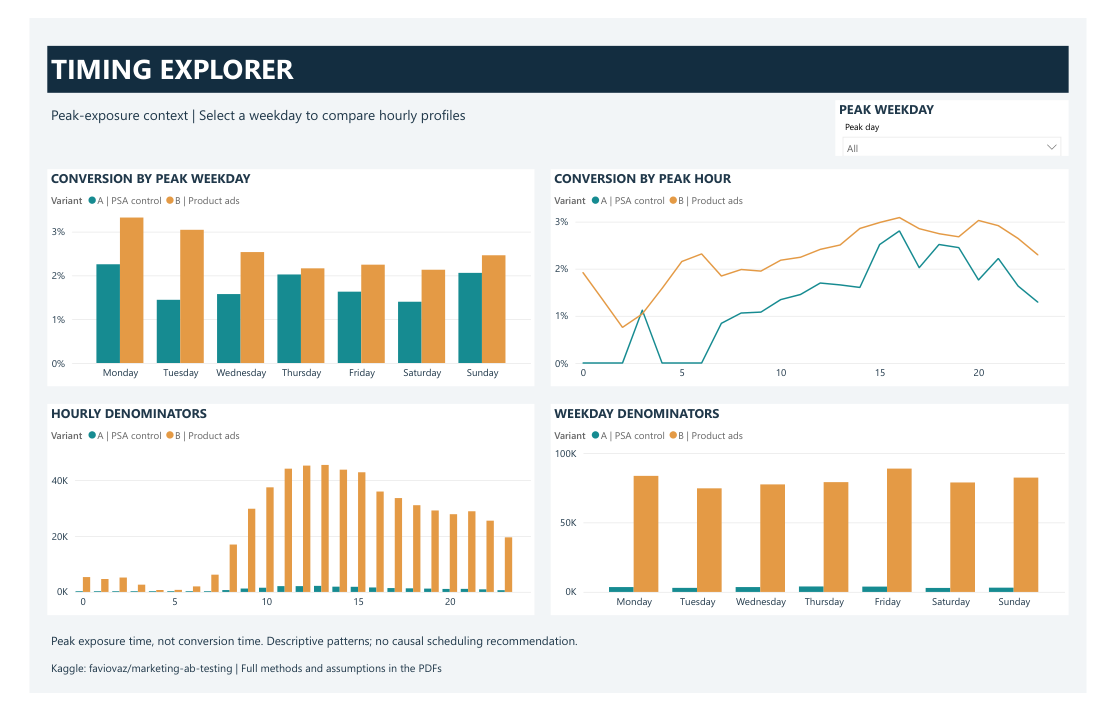

Layout of this report page (visuals, bound fields, positions):
{"tool":"powerbi","page":{"name":"Timing explorer","canvas":[1440,900],"ordinal":3},"visuals":[{"type":"textbox","box":[24,18,1392,64],"z":1},{"type":"slicer","title":"PEAK WEEKDAY","fields":{"Values":["Experiment.Peak day"]},"box":[1098,92,318,76],"z":1},{"type":"textbox","box":[24,94,1038,42],"z":1},{"type":"clusteredColumnChart","title":"CONVERSION BY PEAK WEEKDAY","fields":{"Category":["Experiment.Peak day"],"Y":["Experiment.Conversion rate"],"Series":["Experiment.Variant"]},"box":[24,186,664,296],"z":1},{"type":"lineChart","title":"CONVERSION BY PEAK HOUR","fields":{"Category":["Experiment.Peak hour"],"Y":["Experiment.Conversion rate"],"Series":["Experiment.Variant"]},"box":[710,186,706,296],"z":1},{"type":"clusteredColumnChart","title":"HOURLY DENOMINATORS","fields":{"Category":["Experiment.Peak hour"],"Y":["Experiment.Users"],"Series":["Experiment.Variant"]},"box":[24,506,664,288],"z":1},{"type":"clusteredColumnChart","title":"WEEKDAY DENOMINATORS","fields":{"Category":["Experiment.Peak day"],"Y":["Experiment.Users"],"Series":["Experiment.Variant"]},"box":[710,506,706,288],"z":1},{"type":"textbox","box":[24,812,1392,32],"z":1},{"type":"textbox","box":[24,850,1392,34],"z":1}]}

Visuals, with their boxes in screenshot pixels (x1, y1, x2, y2), scaled from the page's 1440x900 canvas onto the 1116x712 screenshot:
textbox: region(19, 14, 1097, 65)
"PEAK WEEKDAY" slicer: region(851, 73, 1097, 133)
textbox: region(19, 74, 823, 108)
"CONVERSION BY PEAK WEEKDAY" clusteredColumnChart: region(19, 147, 533, 381)
"CONVERSION BY PEAK HOUR" lineChart: region(550, 147, 1097, 381)
"HOURLY DENOMINATORS" clusteredColumnChart: region(19, 400, 533, 628)
"WEEKDAY DENOMINATORS" clusteredColumnChart: region(550, 400, 1097, 628)
textbox: region(19, 642, 1097, 668)
textbox: region(19, 672, 1097, 699)
